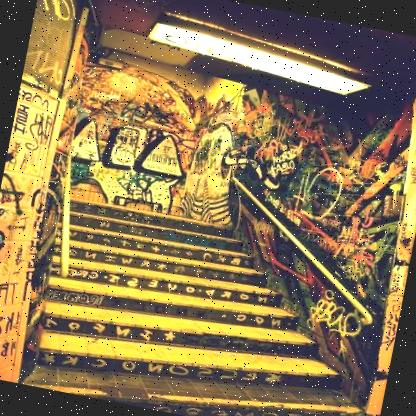stair: (26, 181, 335, 411)
